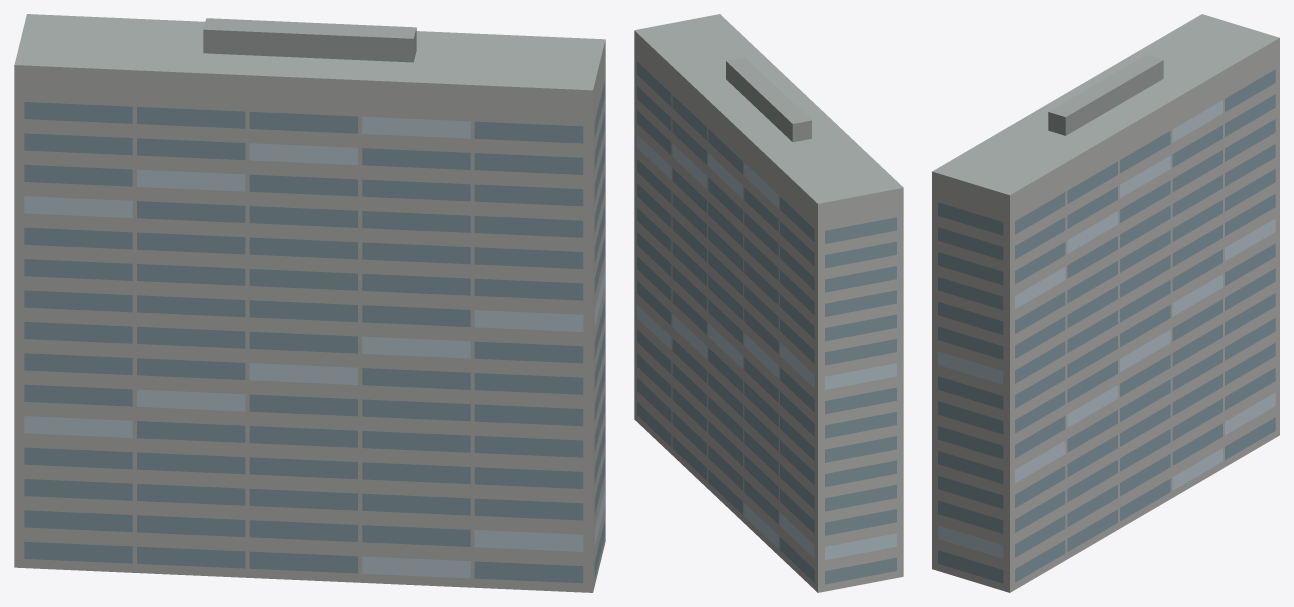
File: fallback-dmc-parkview-xi-completion-401.glb
3 views of the same model, side by side, from view 1: azimuth 30°, elevation 25°; view 2: azimuth 150°, elevation 25°; view 3: azimuth 270°, elevation 25° (orthographic). The views are drawn at different scales.
Parts seen in each view (by area): view 1: fallback-dmc-parkview-xi-completion-401; view 2: fallback-dmc-parkview-xi-completion-401; view 3: fallback-dmc-parkview-xi-completion-401.
Boxes of the visible parts, x1=… form: fallback-dmc-parkview-xi-completion-401: x1=14, y1=14, x2=605, y2=592; fallback-dmc-parkview-xi-completion-401: x1=634, y1=14, x2=903, y2=592; fallback-dmc-parkview-xi-completion-401: x1=932, y1=14, x2=1279, y2=592.
Bounding box in the file's own units: 45.77 × 49 × 37.09.
